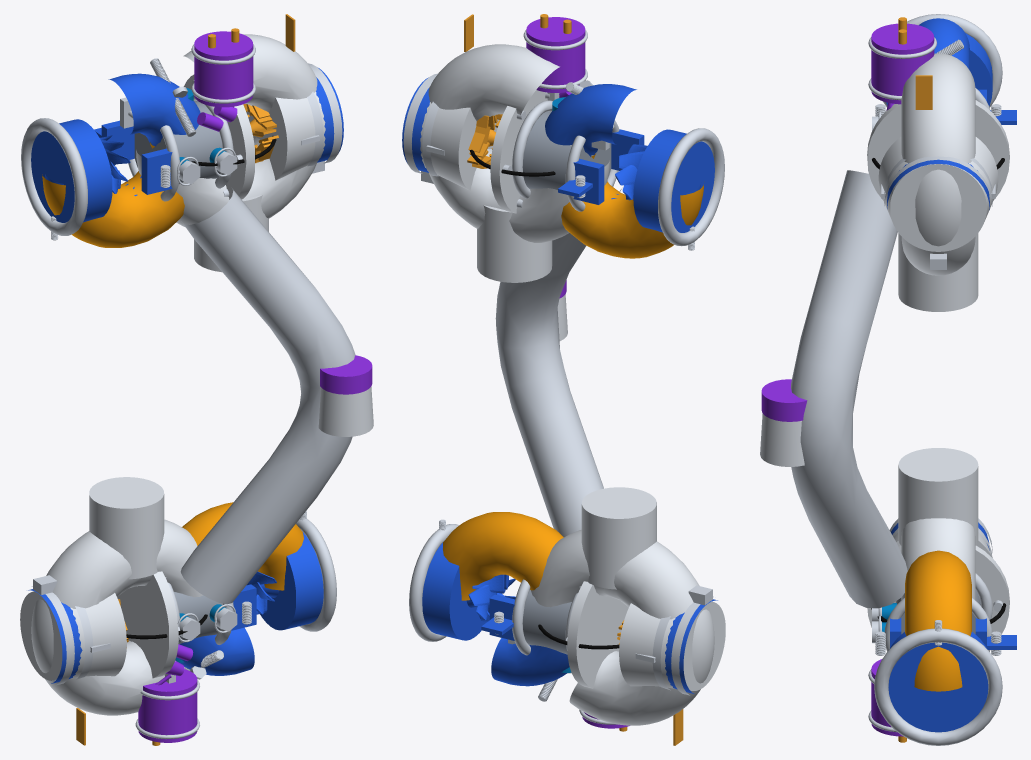
File: turbocharger.glb
3 renders of one model, left to right at view 1: azimuth 30°, elevation 25°; view 2: azimuth 150°, elevation 25°; view 3: azimuth 270°, elevation 25°, orthographic. The views are drawn at different scales.
Parts seen in each view (by area): view 1: Twin_Turbo_Equalized_Charge_Y_Pipe, Compressor_Volute_Scroll (×2), Turbine_VBand_Exhaust_Flange (×2), Anti_Surge_Ported_Air_Inlet_Snout (×2), Inconel_Foil_Turbine_Thermal_Blanket (×2), DualPort_Wastegate_Canister (×2), Compressor_Boost_Outlet_Pipe (×2), Compressor_Seal_Backplate (×2), Divided_TwinScroll_Turbine_Volute (×2), Turbine_Discharge_VBand_Clamp_Ring (×2), Twin_Turbo_Central_BOV, CHRA_Bearing_Center_Housing (×2) (+7 smaller); view 2: Compressor_Volute_Scroll (×2), Twin_Turbo_Equalized_Charge_Y_Pipe, Inconel_Foil_Turbine_Thermal_Blanket (×2), Compressor_Boost_Outlet_Pipe (×2), Turbine_VBand_Exhaust_Flange (×2), Anti_Surge_Ported_Air_Inlet_Snout (×2), Divided_TwinScroll_Turbine_Volute (×2), Compressor_Seal_Backplate (×2), Turbine_Discharge_VBand_Clamp_Ring (×2), CHRA_Bearing_Center_Housing (×2), DualPort_Wastegate_Canister, Inlet_Coupler_T_Clamp_1 (×2) (+6 smaller); view 3: Twin_Turbo_Equalized_Charge_Y_Pipe, Compressor_Volute_Scroll (×2), Compressor_Boost_Outlet_Pipe (×2), Turbine_VBand_Exhaust_Flange (×2), Inconel_Foil_Turbine_Thermal_Blanket, Turbine_Discharge_VBand_Clamp_Ring (×2), Anti_Surge_Ported_Air_Inlet_Snout, Compressor_Seal_Backplate (×2), DualPort_Wastegate_Canister (×2), Twin_Turbo_Central_BOV, Divided_TwinScroll_Turbine_Volute, Inlet_Coupler_T_Clamp_1 (+4 smaller).
Boxes of the visible parts, x1,y1,x2,y2 form: Twin_Turbo_Equalized_Charge_Y_Pipe: (180, 188, 355, 604); Compressor_Volute_Scroll (×2): (31, 34, 317, 715); Turbine_VBand_Exhaust_Flange (×2): (31, 119, 323, 630); Anti_Surge_Ported_Air_Inlet_Snout (×2): (20, 91, 325, 680); Inconel_Foil_Turbine_Thermal_Blanket (×2): (42, 143, 303, 590); DualPort_Wastegate_Canister (×2): (138, 31, 253, 742); Compressor_Boost_Outlet_Pipe (×2): (89, 195, 268, 579); Compressor_Seal_Backplate (×2): (117, 74, 254, 678); Divided_TwinScroll_Turbine_Volute (×2): (45, 73, 254, 675); Turbine_Discharge_VBand_Clamp_Ring (×2): (21, 118, 336, 631); Twin_Turbo_Central_BOV: (318, 355, 373, 436); CHRA_Bearing_Center_Housing (×2): (134, 101, 222, 644); Compressor_Volute_Scroll (×2): (428, 44, 714, 725); Twin_Turbo_Equalized_Charge_Y_Pipe: (495, 189, 621, 537); Inconel_Foil_Turbine_Thermal_Blanket (×2): (443, 153, 703, 600); Compressor_Boost_Outlet_Pipe (×2): (477, 205, 656, 589); Turbine_VBand_Exhaust_Flange (×2): (422, 129, 714, 640); Anti_Surge_Ported_Air_Inlet_Snout (×2): (420, 102, 725, 690); Divided_TwinScroll_Turbine_Volute (×2): (491, 84, 700, 686); Compressor_Seal_Backplate (×2): (490, 90, 628, 688); Turbine_Discharge_VBand_Clamp_Ring (×2): (409, 128, 724, 641); CHRA_Bearing_Center_Housing (×2): (522, 111, 611, 654); DualPort_Wastegate_Canister: (526, 17, 585, 92); Inlet_Coupler_T_Clamp_1 (×2): (403, 73, 713, 695); Twin_Turbo_Equalized_Charge_Y_Pipe: (791, 170, 907, 608); Compressor_Volute_Scroll (×2): (901, 53, 975, 600); Compressor_Boost_Outlet_Pipe (×2): (898, 233, 978, 545); Turbine_VBand_Exhaust_Flange (×2): (886, 33, 992, 732); Inconel_Foil_Turbine_Thermal_Blanket: (905, 550, 971, 691); Turbine_Discharge_VBand_Clamp_Ring (×2): (874, 14, 1002, 745); Anti_Surge_Ported_Air_Inlet_Snout: (878, 137, 998, 251); Compressor_Seal_Backplate (×2): (867, 100, 1009, 634); DualPort_Wastegate_Canister (×2): (871, 23, 934, 736); Twin_Turbo_Central_BOV: (760, 379, 807, 466); Divided_TwinScroll_Turbine_Volute: (919, 18, 969, 70); Inlet_Coupler_T_Clamp_1: (884, 156, 992, 269).
Bounding box in the file's own units: 0.2362 × 0.5482 × 0.1728.
